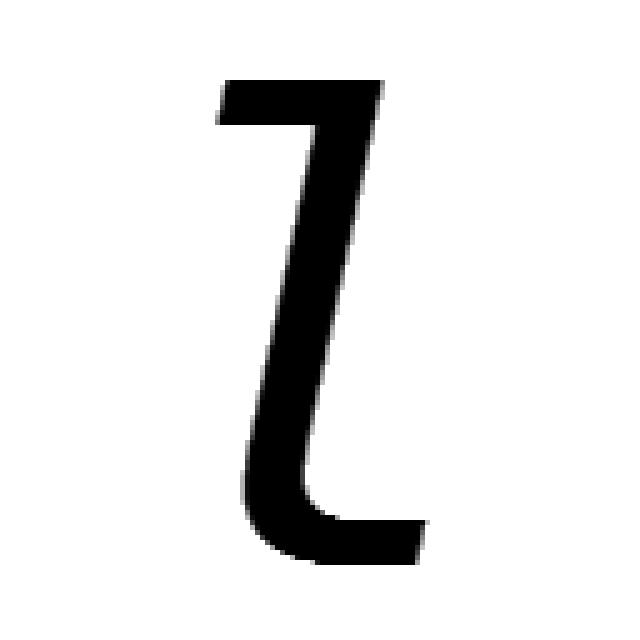L: (190, 64, 437, 576)
